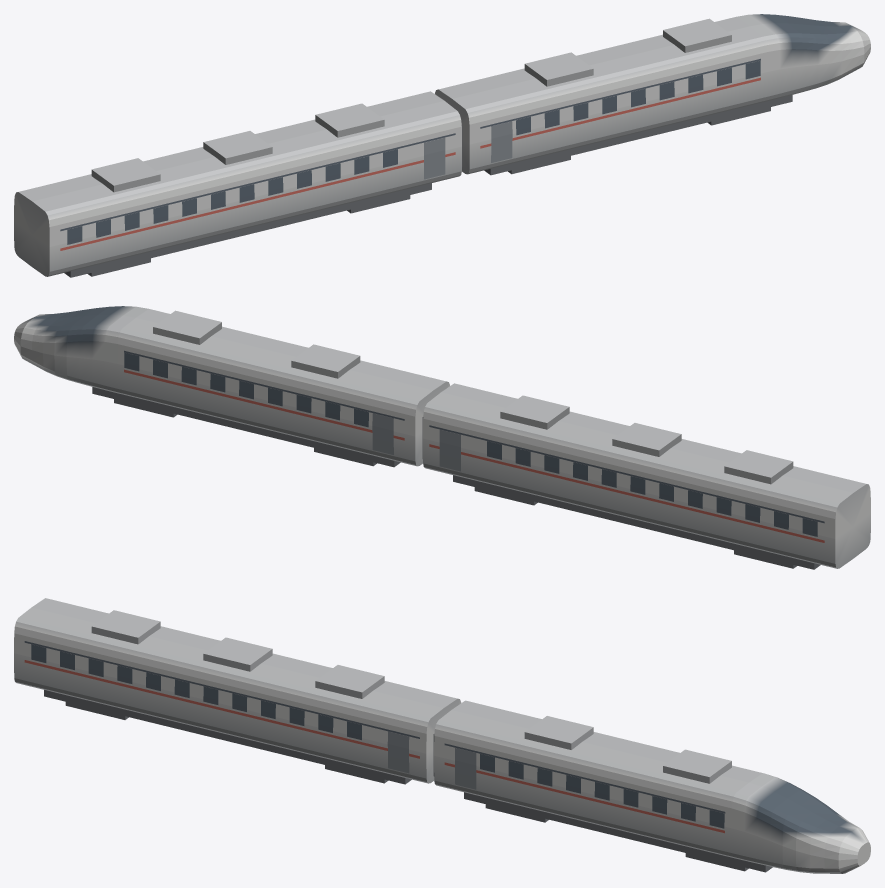
File: 01_TRA_modern_3x2-01.glb
The picture shows the model from 3 angles, top to bottom: view 1: azimuth 30°, elevation 25°; view 2: azimuth 150°, elevation 25°; view 3: azimuth 330°, elevation 25°; orthographic projection.
Size of the model in its own units: 39.16 by 3.77 by 2.96.
